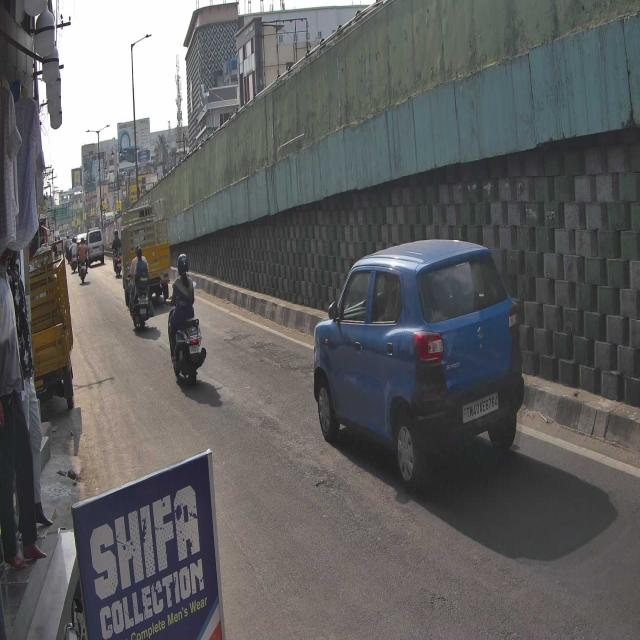single_rider: (165, 253, 208, 391)
